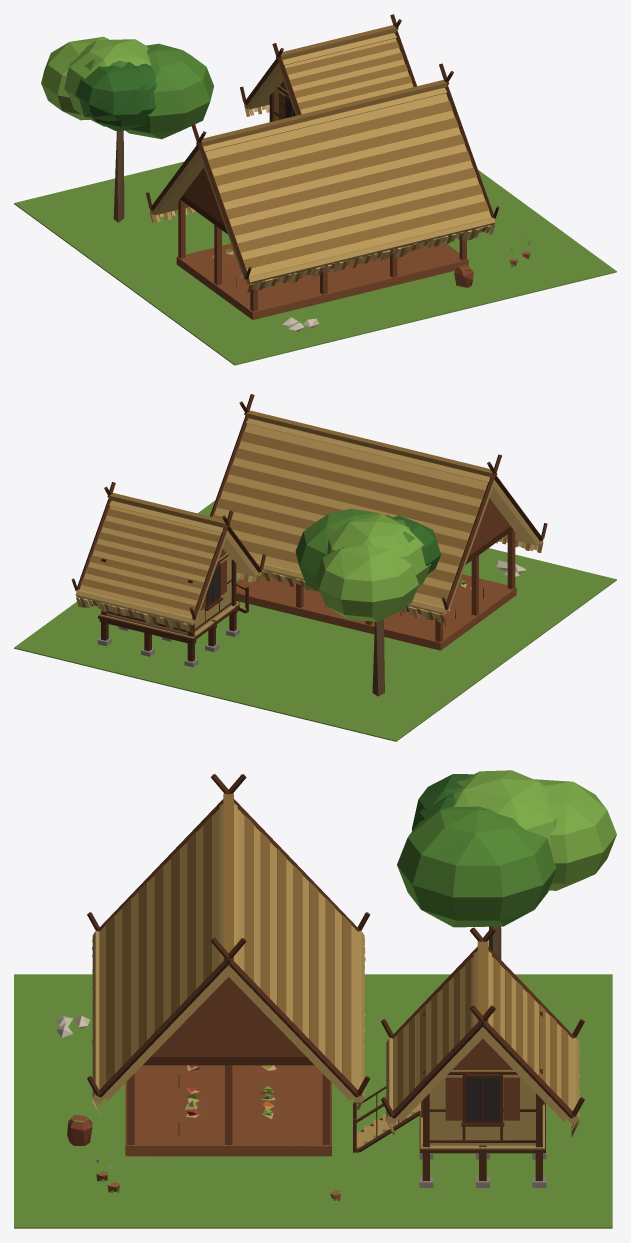
File: shop_3.glb
3 views of the same model, one above another, from view 1: azimuth 30°, elevation 25°; view 2: azimuth 150°, elevation 25°; view 3: azimuth 270°, elevation 25° (orthographic). The views are drawn at different scales.
Visible parts, largest first — view 1: body; view 2: body; view 3: body, windows.
Part boxes in pixels (<box>): body: <box>14,14,616,365</box>; body: <box>14,394,616,741</box>; body: <box>14,770,616,1228</box>; windows: <box>466,1078,499,1120</box>.
Size of the model in its own units: 15.9 by 7.21 by 16.01.
